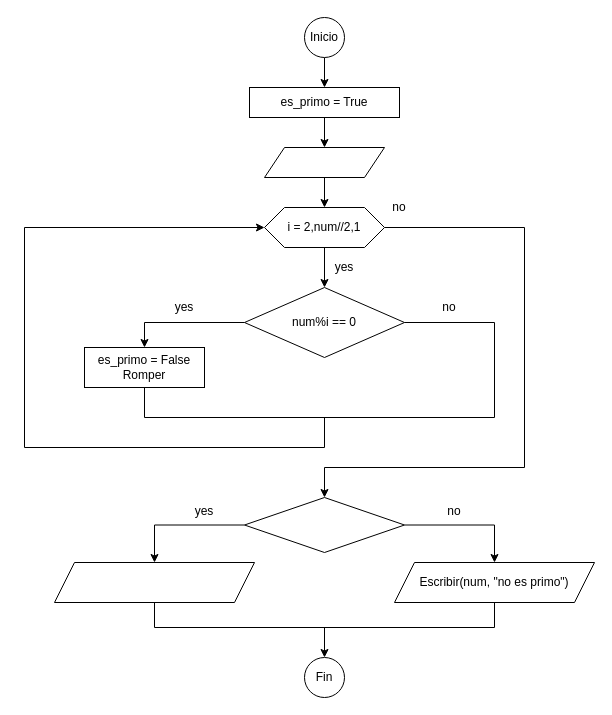
The diagram is 612 pixels wide and 715 high, and some of its shapes have lost their labels. Here are the shapes that lost their labels. From the top down, the centre of each, then its label:
the point at 324,162: Leer(num)
the point at 324,524: es_primo == True
the point at 154,582: Escribir(num, " es primo")
